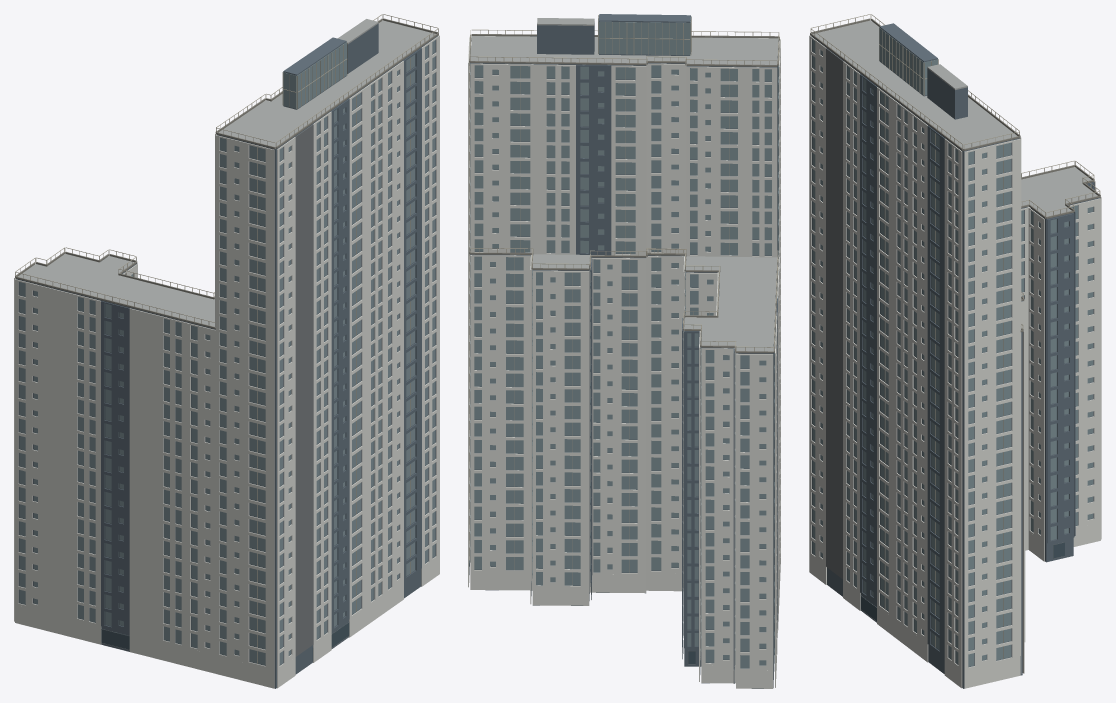
File: bespoke-raemian-onebailey-118.glb
3 views of the same model, side by side, from view 1: azimuth 30°, elevation 25°; view 2: azimuth 150°, elevation 25°; view 3: azimuth 270°, elevation 25° (orthographic). The views are drawn at different scales.
Visible parts, largest first — view 1: 118_pale_bays_navy_shafts_5, 118_pale_bays_navy_shafts_1, 118_editable_massing, 118_glass_roof_crown_4, 118_pale_bays_navy_shafts_6, 118_pale_bays_navy_shafts_3, 118_glass_roof_crown_1, 118_pale_bays_navy_shafts_2; view 2: 118_pale_bays_navy_shafts_5, 118_pale_bays_navy_shafts_1, 118_editable_massing, 118_glass_roof_crown_4, 118_pale_bays_navy_shafts_3, 118_glass_roof_crown_1; view 3: 118_pale_bays_navy_shafts_5, 118_editable_massing, 118_pale_bays_navy_shafts_1, 118_pale_bays_navy_shafts_6, 118_glass_roof_crown_4, 118_pale_bays_navy_shafts_3, 118_glass_roof_crown_1.
Boxes of the visible parts, x1=… form: 118_pale_bays_navy_shafts_5: x1=14, y1=25, x2=439, y2=688; 118_pale_bays_navy_shafts_1: x1=19, y1=40, x2=435, y2=665; 118_editable_massing: x1=16, y1=23, x2=437, y2=688; 118_glass_roof_crown_4: x1=18, y1=19, x2=435, y2=326; 118_pale_bays_navy_shafts_6: x1=101, y1=124, x2=349, y2=661; 118_pale_bays_navy_shafts_3: x1=15, y1=14, x2=438, y2=663; 118_glass_roof_crown_1: x1=15, y1=18, x2=438, y2=328; 118_pale_bays_navy_shafts_2: x1=101, y1=622, x2=349, y2=660; 118_pale_bays_navy_shafts_5: x1=468, y1=36, x2=780, y2=688; 118_pale_bays_navy_shafts_1: x1=470, y1=15, x2=778, y2=668; 118_editable_massing: x1=470, y1=14, x2=778, y2=688; 118_glass_roof_crown_4: x1=470, y1=18, x2=778, y2=353; 118_pale_bays_navy_shafts_3: x1=469, y1=15, x2=779, y2=585; 118_glass_roof_crown_1: x1=469, y1=34, x2=779, y2=353; 118_pale_bays_navy_shafts_5: x1=809, y1=22, x2=1101, y2=688; 118_editable_massing: x1=811, y1=23, x2=1099, y2=688; 118_pale_bays_navy_shafts_1: x1=812, y1=27, x2=1093, y2=666; 118_pale_bays_navy_shafts_6: x1=826, y1=48, x2=1064, y2=621; 118_glass_roof_crown_4: x1=813, y1=20, x2=1097, y2=218; 118_pale_bays_navy_shafts_3: x1=810, y1=14, x2=1100, y2=658; 118_glass_roof_crown_1: x1=810, y1=18, x2=1100, y2=331.
Bounding box in the file's own units: 68.97 × 103 × 47.45.
